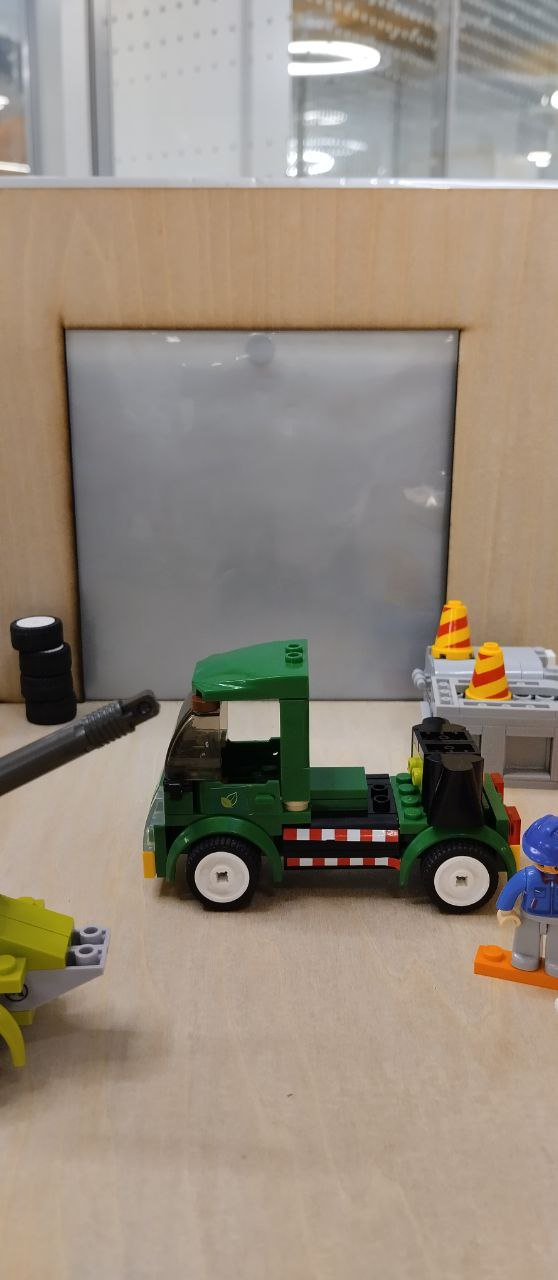Cone: (432, 600, 473, 659), (471, 641, 509, 704)
Object Black: (405, 714, 485, 834)
Truck: (141, 635, 523, 908)
